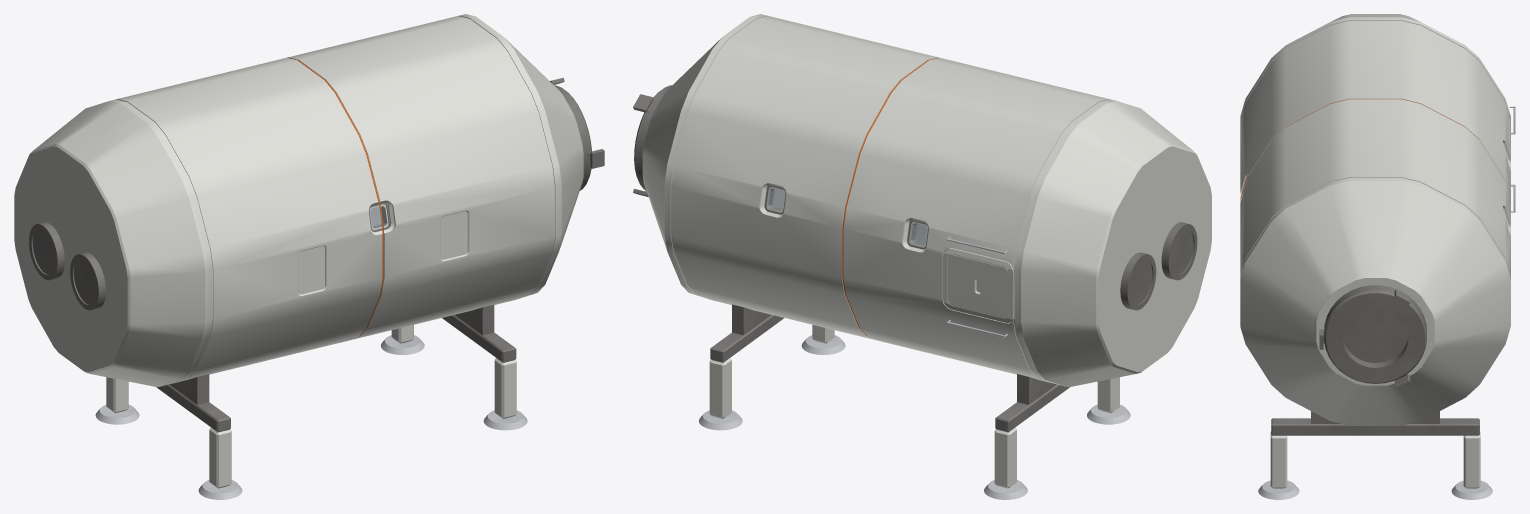
Rendered from ax_station_15_surface_hab_deployed.glb.
The picture shows the model from 3 angles, left to right: view 1: azimuth 30°, elevation 25°; view 2: azimuth 150°, elevation 25°; view 3: azimuth 270°, elevation 25°; orthographic projection. The views are drawn at different scales.
Visible parts, largest first — view 1: pressure_hull, leg_sleeves, leg_beams, suitport_rings, hull_saddles, suitport_hatches, port_top; view 2: pressure_hull, hatch_door_2, leg_sleeves, leg_beams, suitport_rings, suitport_hatches, hull_saddles, port_top, window_glass; view 3: pressure_hull, port_top, leg_beams, hatch_door_1, leg_sleeves, leg_3, leg_4, port_top_petals, hull_saddles.
Boxes of the visible parts, x1,y1,x2,y2 form: pressure_hull: (14, 14, 583, 387); leg_sleeves: (106, 325, 516, 488); leg_beams: (156, 315, 516, 432); suitport_rings: (29, 222, 105, 310); hull_saddles: (169, 304, 494, 404); suitport_hatches: (33, 229, 95, 304); port_top: (554, 85, 591, 190); pressure_hull: (642, 14, 1211, 387); hatch_door_2: (943, 248, 1014, 322); leg_sleeves: (709, 325, 1119, 488); leg_beams: (710, 315, 1069, 432); suitport_rings: (1120, 222, 1197, 310); suitport_hatches: (1130, 229, 1193, 304); hull_saddles: (732, 304, 1056, 404); port_top: (634, 85, 671, 190); window_glass: (768, 188, 926, 245); pressure_hull: (1240, 14, 1510, 425); port_top: (1324, 285, 1426, 383); leg_beams: (1271, 418, 1479, 435); hatch_door_1: (1342, 308, 1408, 362); leg_sleeves: (1270, 431, 1480, 488); leg_3: (1258, 480, 1299, 499); leg_4: (1451, 480, 1492, 499); port_top_petals: (1319, 289, 1410, 389); hull_saddles: (1311, 411, 1439, 423).
Bounding box in the file's own units: 8.6 × 5.6 × 4.28.
Materials: 5 (2 with a texture image).
